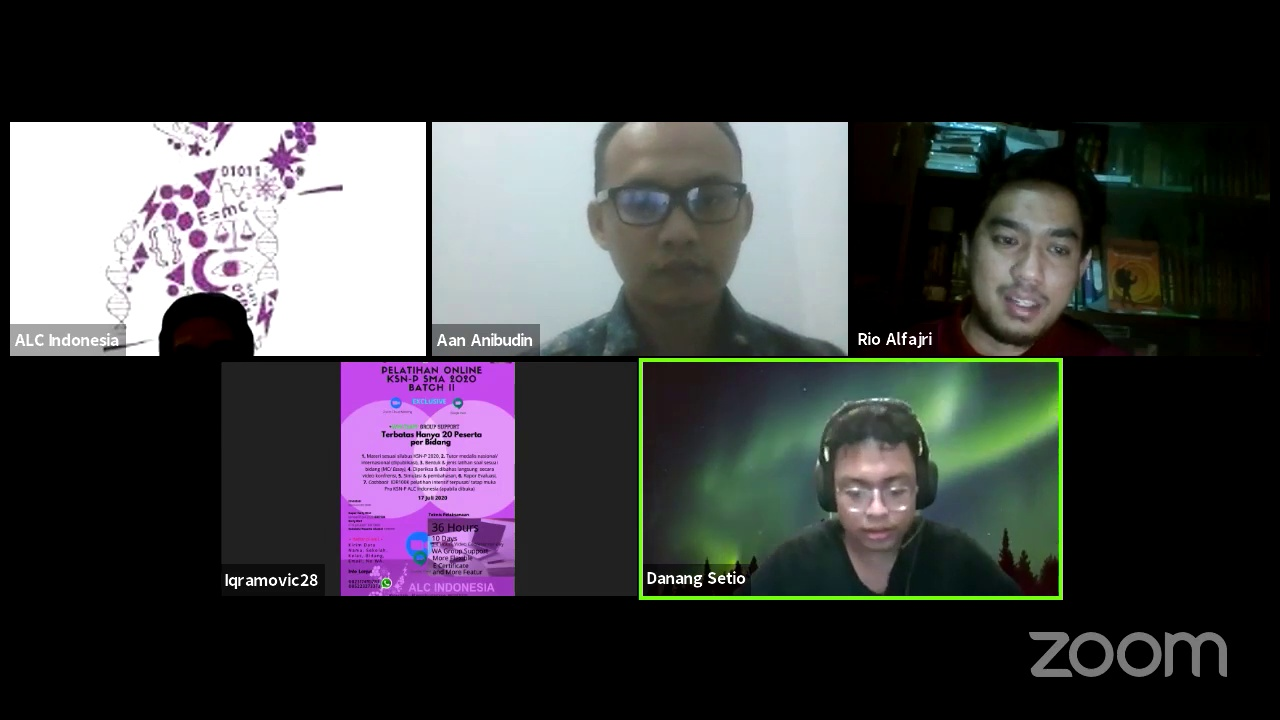Distracted: (794, 412, 966, 562)
Not Distracted: (577, 141, 766, 302), (951, 166, 1107, 341)
